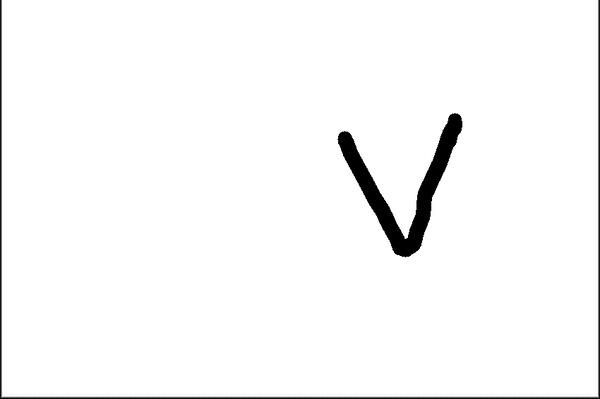V: (329, 101, 487, 258)
